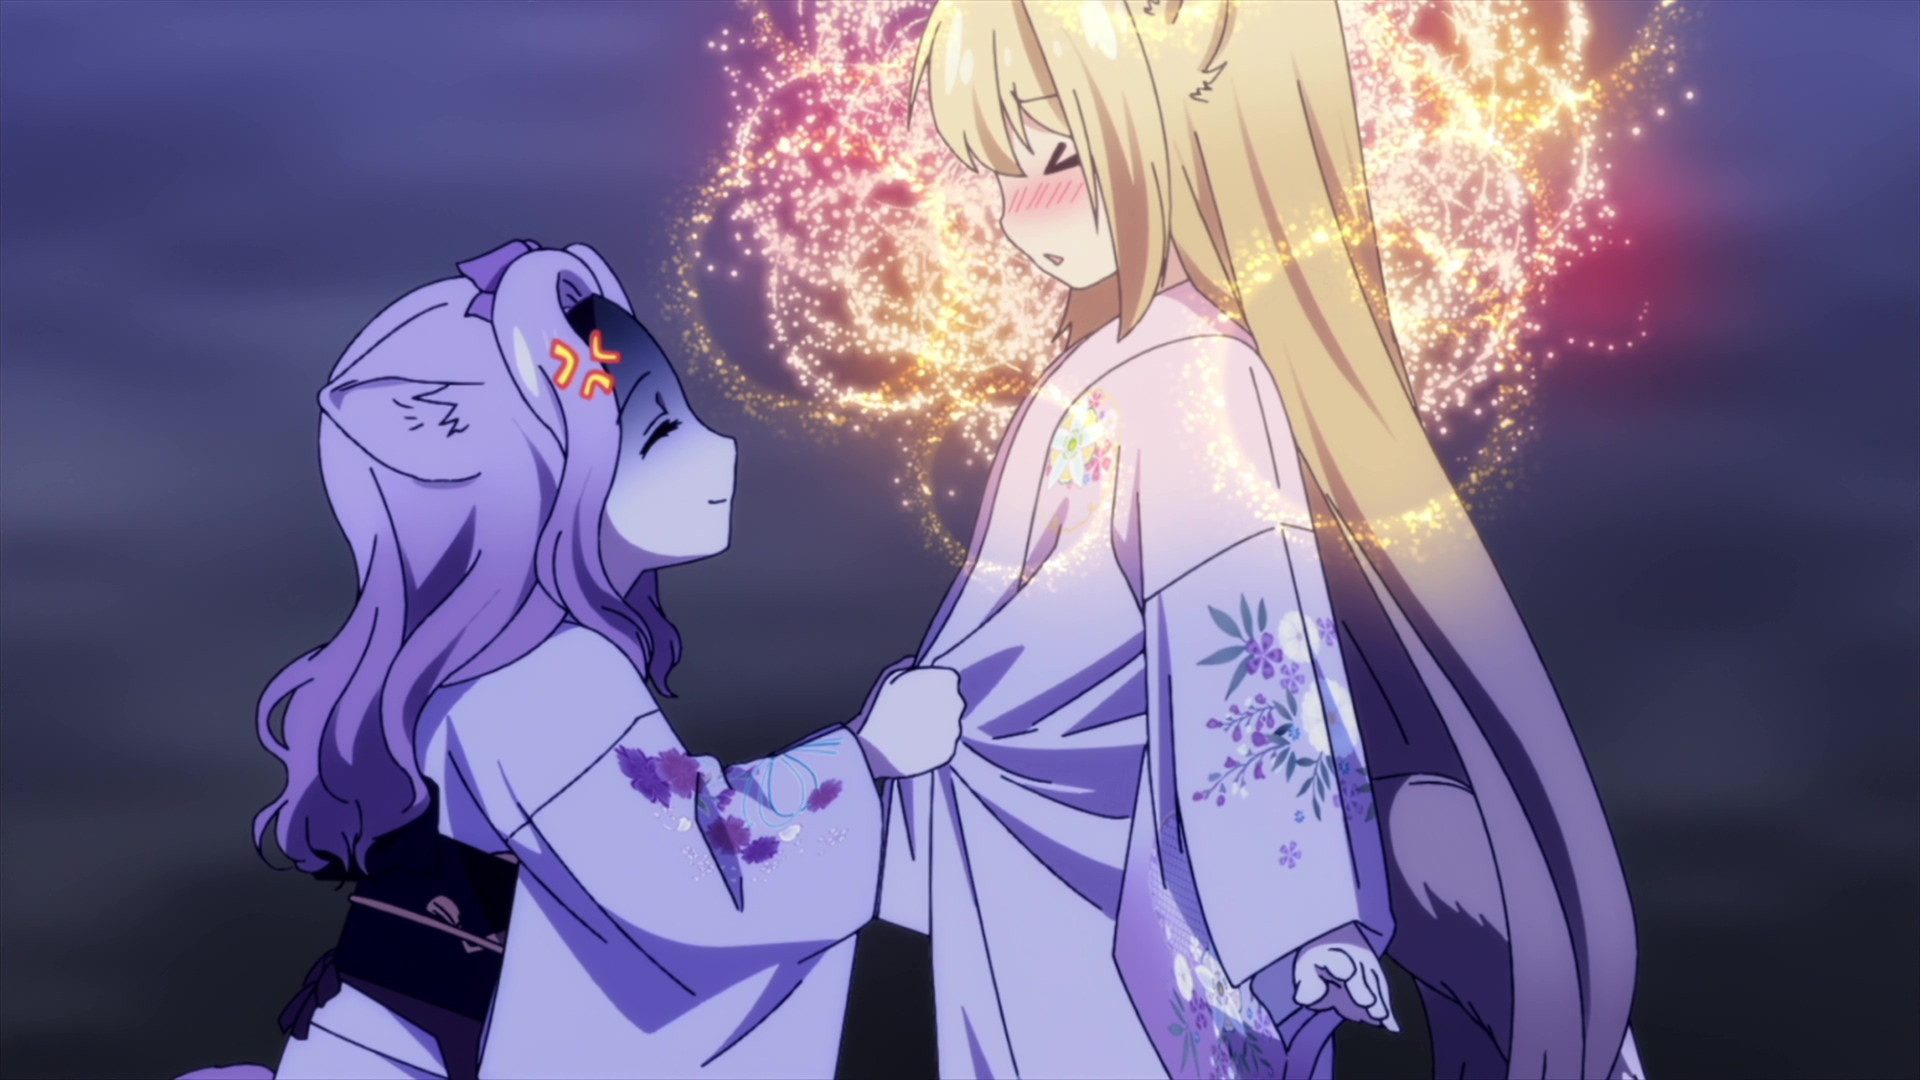柚: (876, 1, 1651, 1080)
莲: (175, 237, 963, 1080)
